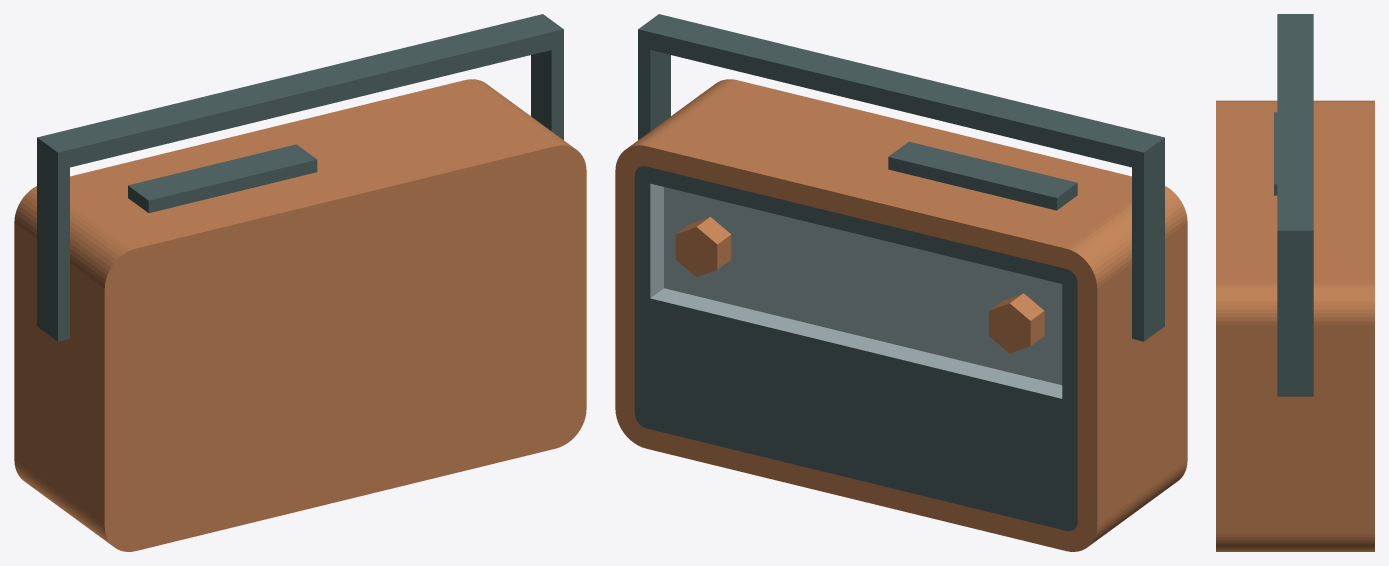
The model's file is radio.glb.
3 renders of one model, left to right at view 1: azimuth 30°, elevation 25°; view 2: azimuth 150°, elevation 25°; view 3: azimuth 270°, elevation 25°, orthographic. The views are drawn at different scales.
Parts seen in each view (by area): view 1: geometry_0; view 2: geometry_0; view 3: geometry_0.
Part boxes in pixels (x1,y1,x2,y2): geometry_0: [14, 14, 586, 551]; geometry_0: [615, 14, 1187, 551]; geometry_0: [1216, 14, 1374, 551].
Size of the model in its own units: 1.1 by 0.7969 by 0.3405.
